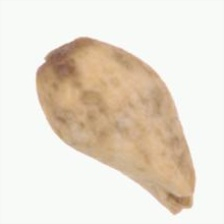L1: (36, 39, 77, 72), (157, 184, 196, 215)
L2: (35, 36, 196, 215)
